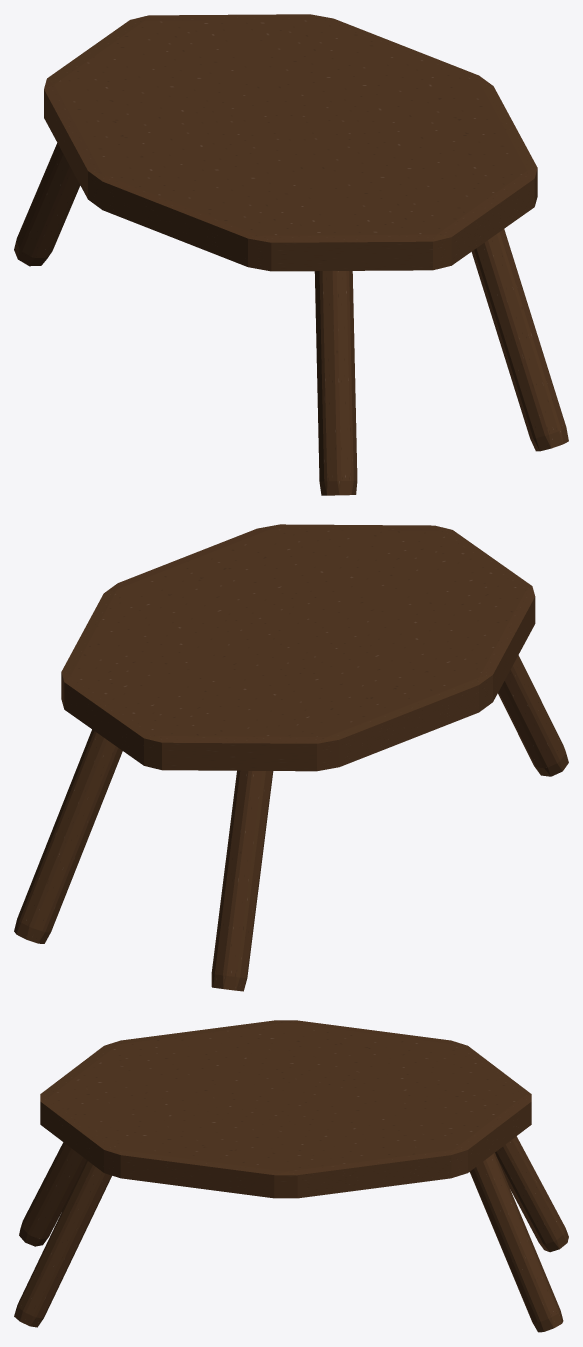
Rendered from table.fbx.
The picture shows the model from 3 angles, top to bottom: view 1: azimuth 30°, elevation 25°; view 2: azimuth 150°, elevation 25°; view 3: azimuth 270°, elevation 25°; orthographic projection. The views are drawn at different scales.
Visible parts, largest first — view 1: Cylinder, Cylinder.002, Cylinder.004, Cylinder.003; view 2: Cylinder, Cylinder.003, Cylinder.001, Cylinder.002; view 3: Cylinder, Cylinder.001, Cylinder.004, Cylinder.003, Cylinder.002.
Boxes of the visible parts, x1=… form: Cylinder: x1=44, y1=14, x2=537, y2=271; Cylinder.002: x1=314, y1=271, x2=357, y2=495; Cylinder.004: x1=471, y1=229, x2=568, y2=451; Cylinder.003: x1=14, y1=143, x2=80, y2=266; Cylinder: x1=61, y1=524, x2=535, y2=771; Cylinder.003: x1=211, y1=770, x2=273, y2=991; Cylinder.001: x1=14, y1=729, x2=122, y2=943; Cylinder.002: x1=498, y1=655, x2=568, y2=776; Cylinder: x1=40, y1=1020, x2=531, y2=1198; Cylinder.001: x1=470, y1=1153, x2=563, y2=1332; Cylinder.004: x1=14, y1=1160, x2=111, y2=1327; Cylinder.003: x1=495, y1=1136, x2=568, y2=1252; Cylinder.002: x1=19, y1=1142, x2=86, y2=1246.
Bounding box in the file's own units: 234 × 133 × 356.
